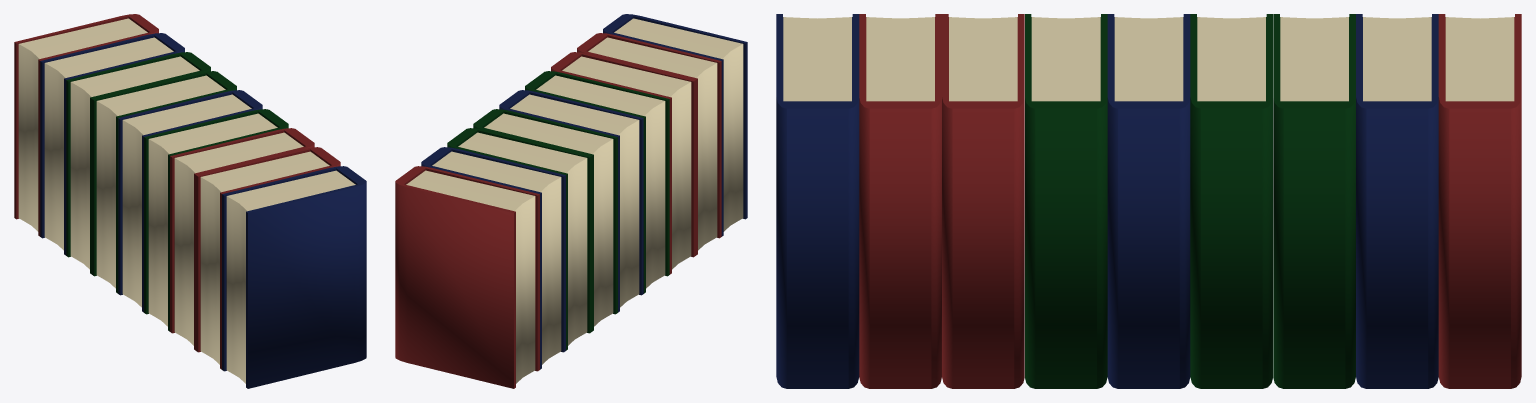
Rendered from Books.fbx.
3 views of the same model, side by side, from view 1: azimuth 30°, elevation 25°; view 2: azimuth 150°, elevation 25°; view 3: azimuth 270°, elevation 25° (orthographic). The views are drawn at different scales.
Parts seen in each view (by area): view 1: Books.004; view 2: Books.004; view 3: Books.004.
Boxes of the visible parts, left/top/right/bottom form: Books.004: left=14, top=14, right=366, bottom=388; Books.004: left=395, top=14, right=747, bottom=388; Books.004: left=776, top=14, right=1521, bottom=388.
Bounding box in the file's own units: 72.62 × 100 × 241.
